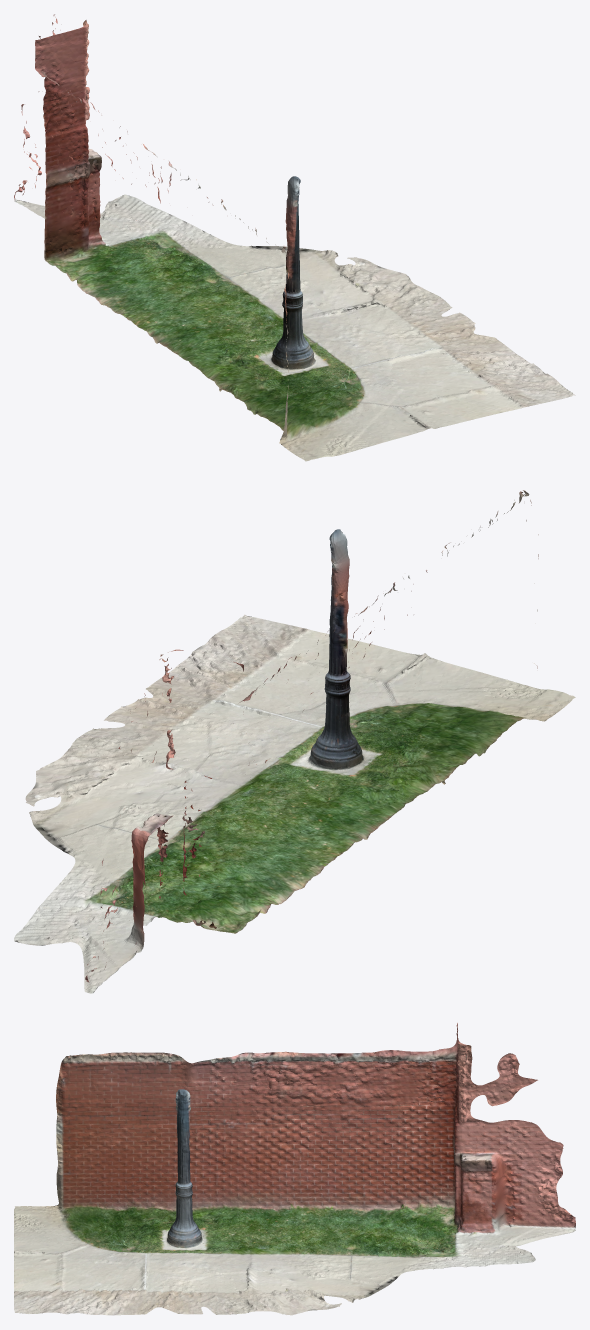
File: myfile.glb
3 views of the same model, one above another, from view 1: azimuth 30°, elevation 25°; view 2: azimuth 150°, elevation 25°; view 3: azimuth 270°, elevation 25° (orthographic). The views are drawn at different scales.
Bounding box in the file's own units: 3.68 × 2.96 × 8.07.
Materials: 1 (1 with a texture image).
